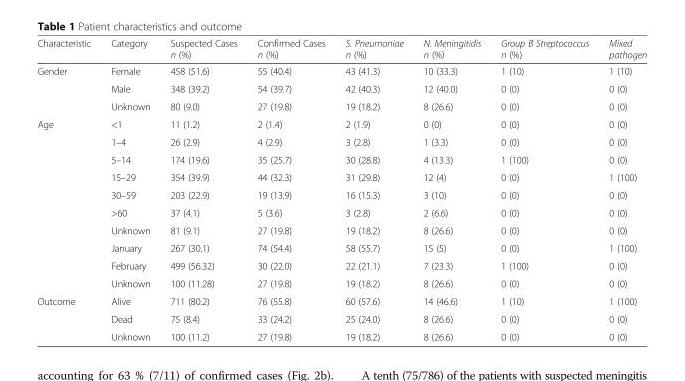table: (36, 37, 646, 341)
table column: (490, 37, 598, 341), (246, 37, 334, 341), (159, 37, 246, 341), (334, 37, 412, 341), (412, 37, 490, 341), (36, 37, 100, 341), (100, 37, 159, 341), (598, 37, 646, 341)
table column header: (36, 37, 646, 62)
table row: (36, 37, 646, 62), (36, 79, 646, 97), (36, 97, 646, 115), (36, 132, 646, 150), (36, 150, 646, 168), (36, 185, 646, 203), (36, 203, 646, 221), (36, 238, 646, 256), (36, 256, 646, 274), (36, 274, 646, 292), (36, 309, 646, 327), (36, 62, 646, 79), (36, 115, 646, 132), (36, 168, 646, 185), (36, 221, 646, 238), (36, 292, 646, 309), (36, 327, 646, 341)
table spanning cell: (36, 115, 100, 292), (36, 62, 100, 115), (36, 292, 100, 341)
